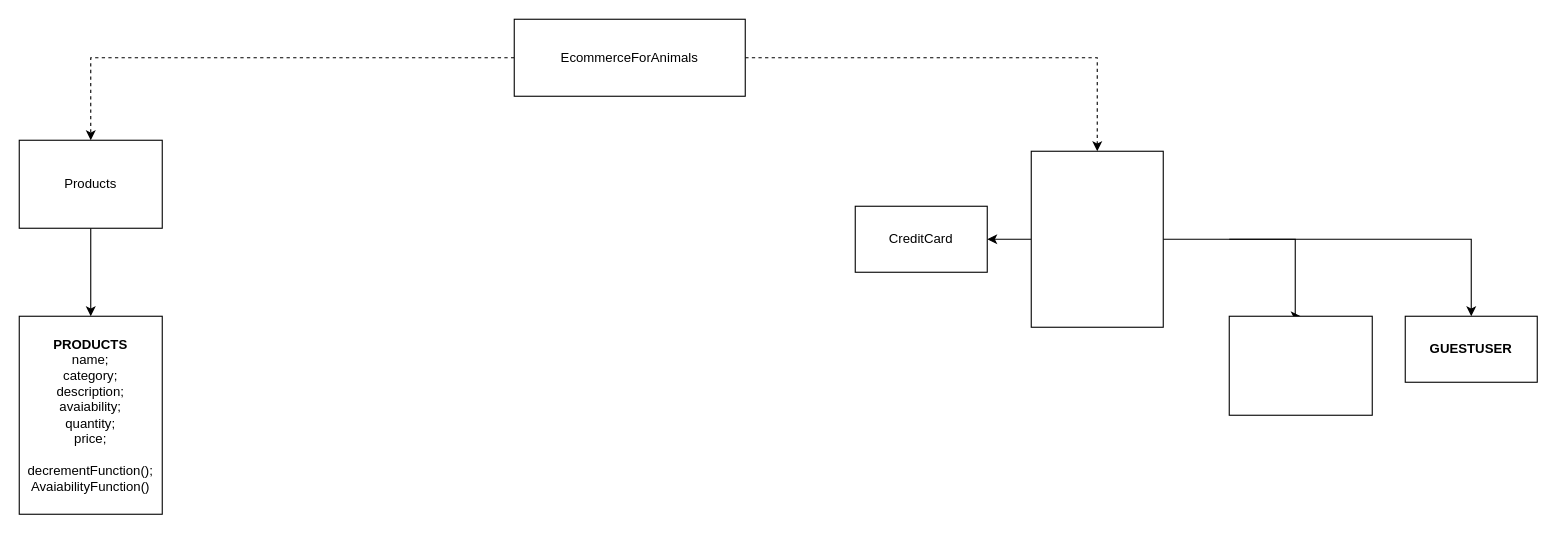
Image size: 1557x534. Some labels were removed from this diagram. The shapes that lost their labels are listed below. From the top down, each one's centre as x and y in pixels, then its label:
At (x=1096, y=238): "USER{ name; address; creditCard; PaymentMethod(); Discount=0; }".
At (x=1300, y=365): "REGISTERED USER username; password; discount = 20;".
